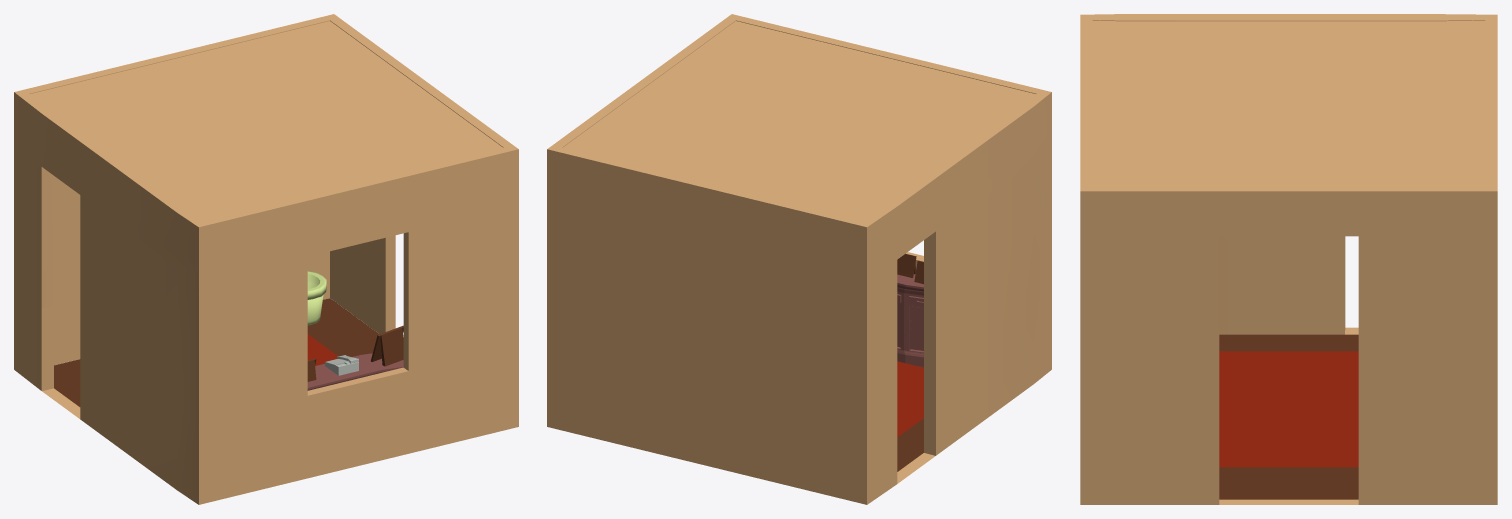
Rendered from Hall 1.glb.
The picture shows the model from 3 angles, left to right: view 1: azimuth 30°, elevation 25°; view 2: azimuth 150°, elevation 25°; view 3: azimuth 270°, elevation 25°; orthographic projection. The views are drawn at different scales.
Parts seen in each view (by area): view 1: S_Hall.001, S_LowBuffet, S_Frame_04, Cube.094; view 2: S_Hall.001, S_Carpet.001, S_LowBuffet, S_DoorBuffet_04; view 3: S_Hall.001, S_Carpet.001.
Boxes of the visible parts, box(x1,y1,x2,y2) form: S_Hall.001: box(14, 14, 518, 504); S_LowBuffet: box(307, 353, 403, 390); S_Frame_04: box(371, 325, 403, 366); Cube.094: box(307, 271, 326, 325); S_Hall.001: box(547, 14, 1051, 504); S_Carpet.001: box(897, 361, 923, 437); S_LowBuffet: box(897, 267, 923, 366); S_DoorBuffet_04: box(909, 306, 923, 350); S_Hall.001: box(1080, 14, 1497, 504); S_Carpet.001: box(1219, 351, 1358, 467).
Bounding box in the file's own units: 3.2 × 2.65 × 3.19.
